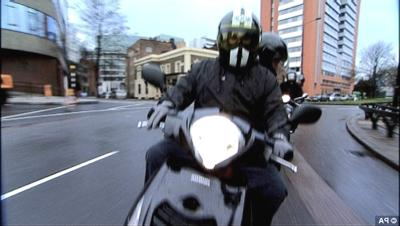With Helmet: (216, 9, 262, 66), (254, 28, 290, 74)
